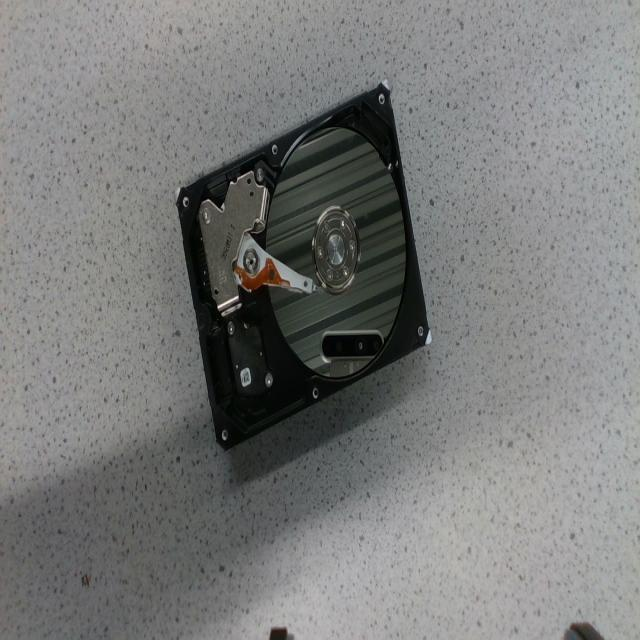actuator arm: (234, 234, 316, 293)
actuator axis: (244, 251, 258, 273)
case: (176, 85, 431, 448)
magnet: (198, 172, 268, 310)
pcb connector: (226, 314, 268, 396)
platter: (264, 128, 406, 379)
platter holder: (312, 206, 358, 292)
screw: (265, 372, 273, 387), (202, 208, 210, 223), (325, 268, 333, 282), (228, 320, 234, 334), (339, 217, 346, 229), (317, 246, 324, 258), (342, 266, 349, 277), (349, 240, 355, 252), (324, 221, 330, 233)
